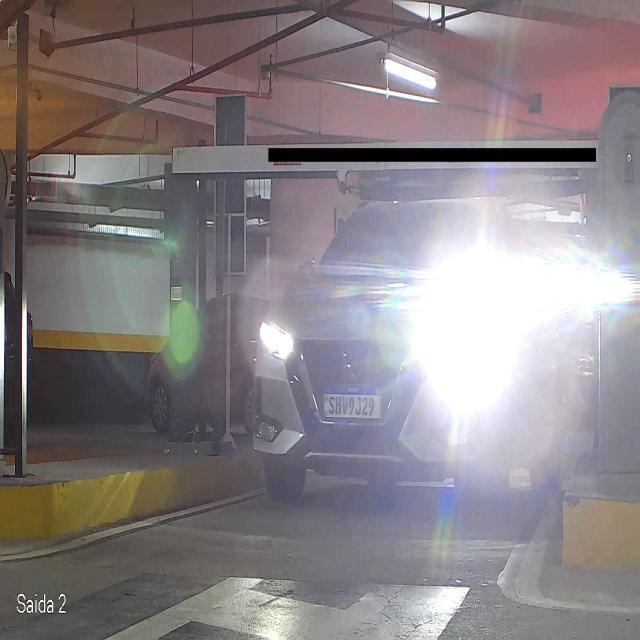mercosul_plate: (322, 384, 382, 420)
